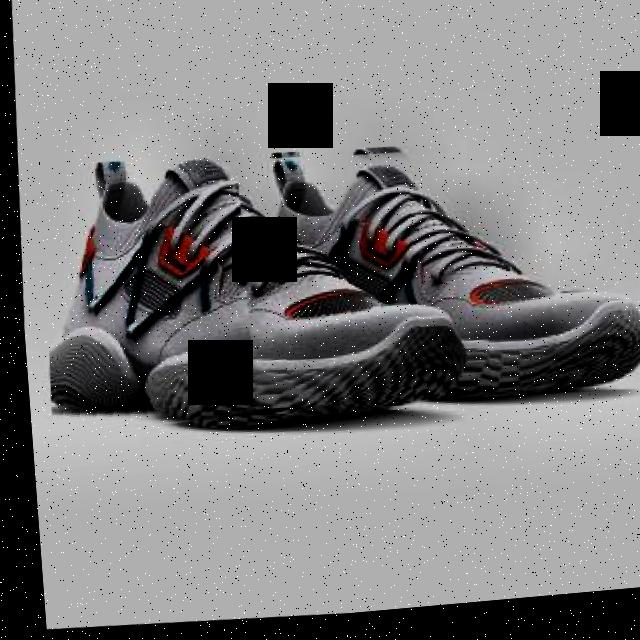shoe: (30, 138, 461, 453), (225, 135, 640, 428)
